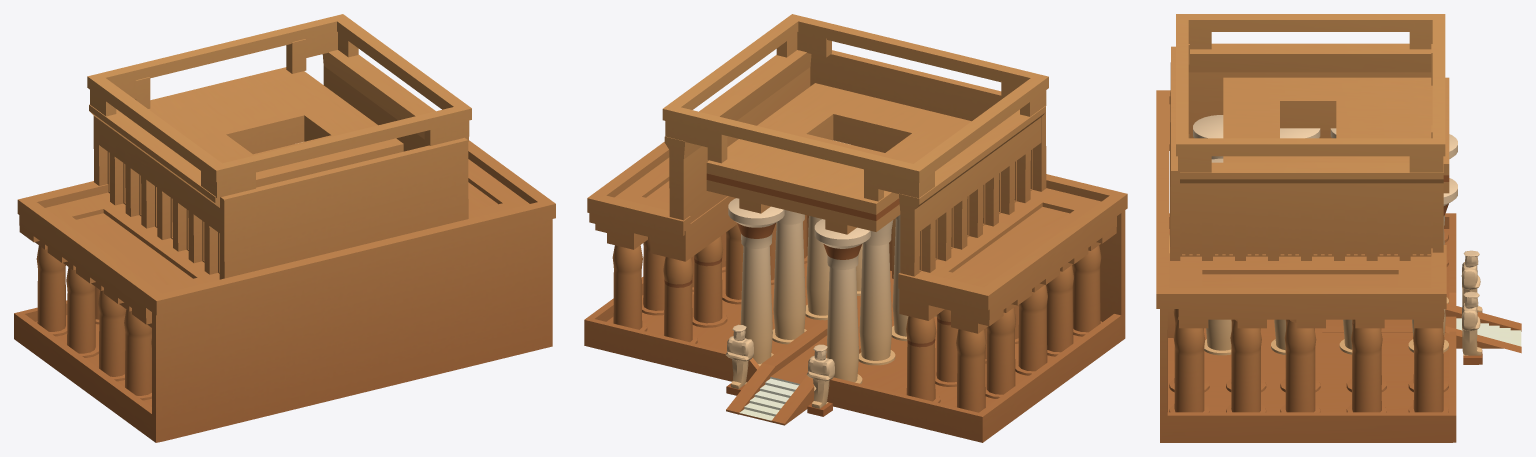
Rendered from building.fbx.
3 views of the same model, side by side, from view 1: azimuth 30°, elevation 25°; view 2: azimuth 150°, elevation 25°; view 3: azimuth 270°, elevation 25° (orthographic). The views are drawn at different scales.
Visible parts, largest first — view 1: Cube.005; view 2: Cube.005; view 3: Cube.005.
Boxes of the visible parts, x1,y1,x2,y2 form: Cube.005: (14, 14, 555, 442); Cube.005: (584, 14, 1127, 442); Cube.005: (1156, 14, 1521, 442).
Size of the model in its own units: 482 by 289 by 366.
